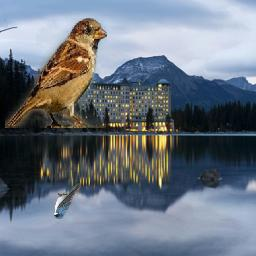Sparrow: (5, 18, 107, 128)
Swallow: (53, 183, 82, 219)
